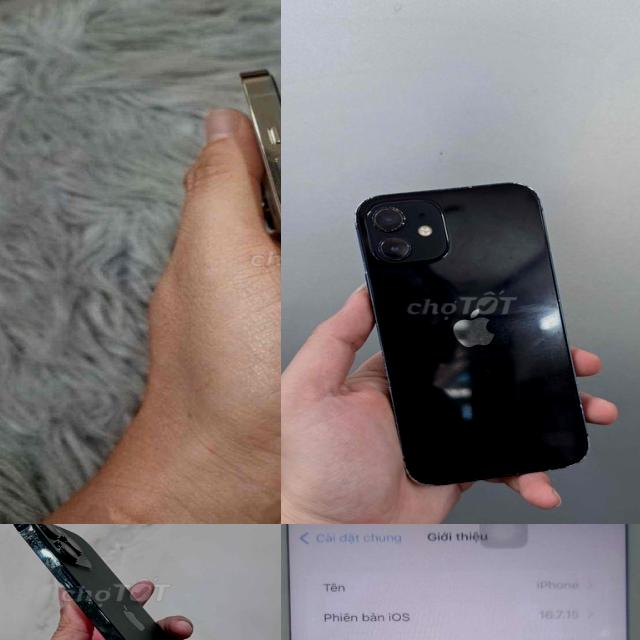gen_12_13: (356, 182, 594, 486), (2, 524, 248, 640)
gen_14: (234, 57, 281, 524)
gen_7_8: (281, 524, 640, 640)
